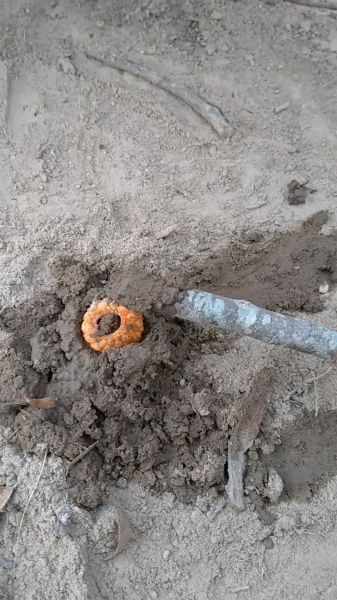eggs: (76, 294, 150, 356)
